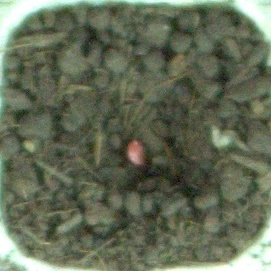pepper seed: (47, 53, 200, 223)
